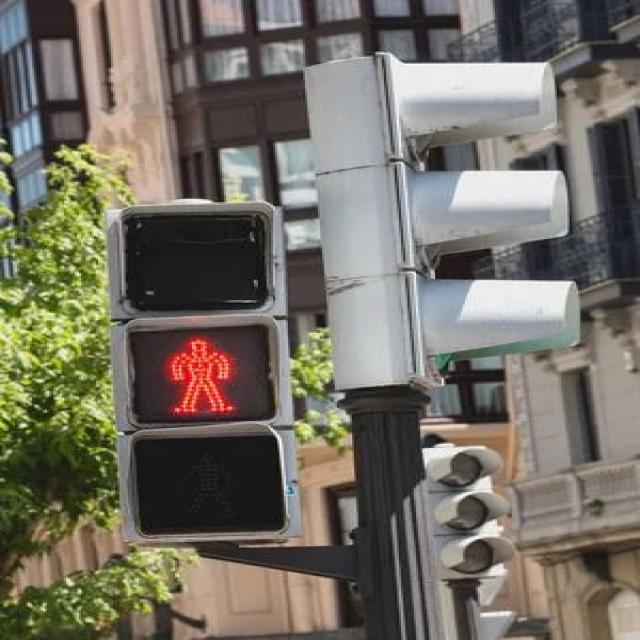Not go: (108, 210, 329, 554), (128, 316, 307, 421)
